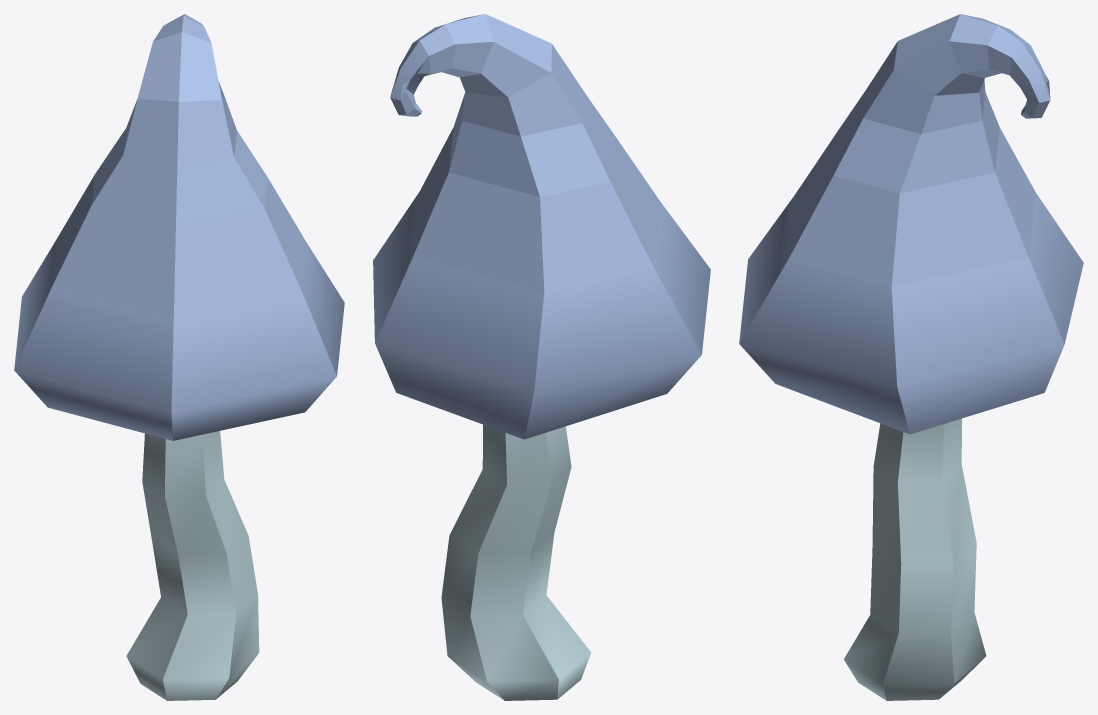
The model's file is mushroom1.fbx.
3 views of the same model, side by side, from view 1: azimuth 30°, elevation 25°; view 2: azimuth 150°, elevation 25°; view 3: azimuth 270°, elevation 25° (orthographic). The views are drawn at different scales.
Parts seen in each view (by area): view 1: pCylinder80, pCylinder82; view 2: pCylinder80, pCylinder82; view 3: pCylinder80, pCylinder82.
Part boxes in pixels (x1,y1,x2,y2): pCylinder80: [14, 14, 344, 440]; pCylinder82: [126, 431, 259, 700]; pCylinder80: [373, 14, 710, 439]; pCylinder82: [441, 424, 591, 700]; pCylinder80: [739, 14, 1083, 434]; pCylinder82: [844, 418, 986, 700].
Size of the model in its own units: 1.17 by 2.22 by 1.03.
